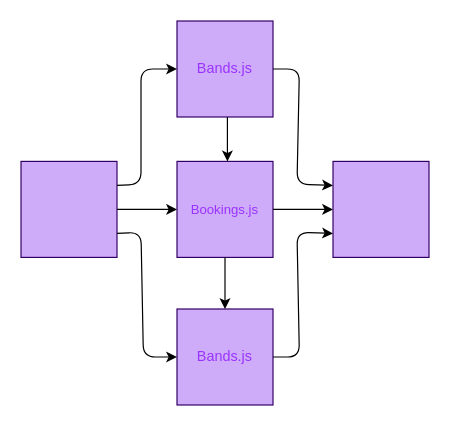
The diagram is 450 pixels wide and 426 high, and some of its shapes have lost their labels. The centre of each missing label's shape, as x and y in pixels:
"database.js" belongs at pixel 380 208.
"main.js" belongs at pixel 68 208.
